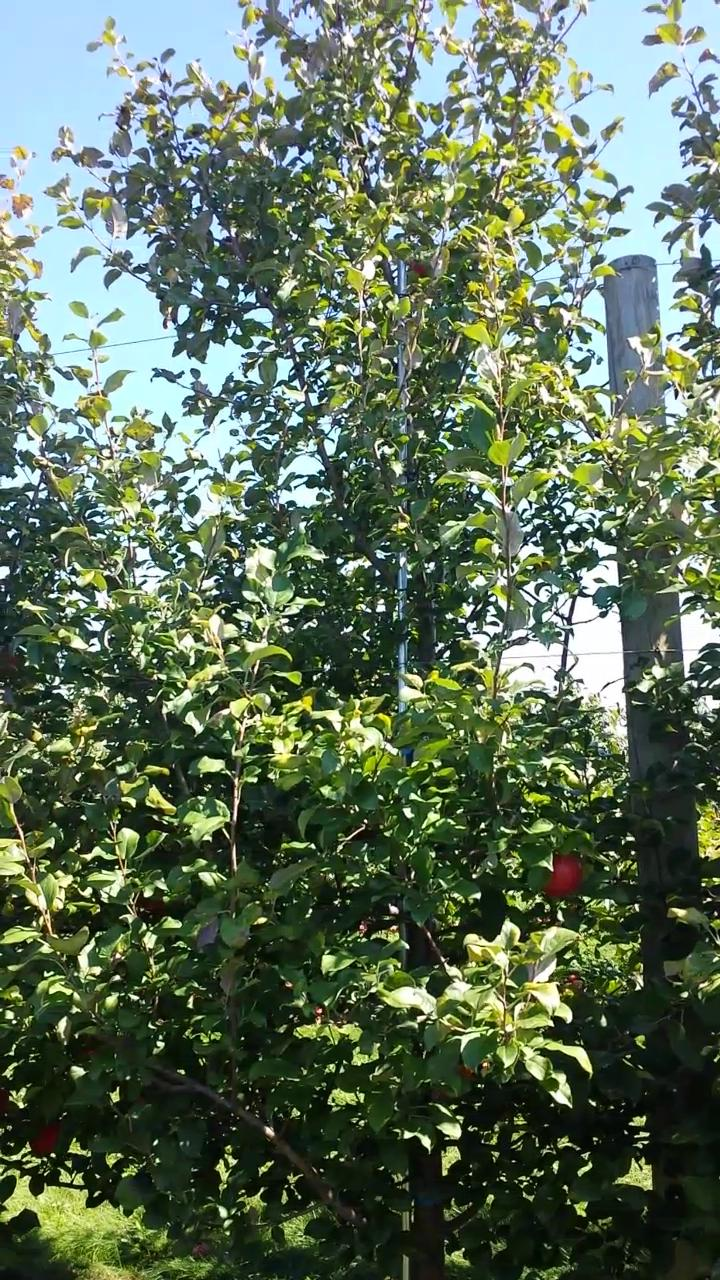Apple: (541, 851, 584, 896), (27, 1121, 59, 1156), (408, 259, 425, 276), (455, 1063, 473, 1079), (0, 1088, 9, 1113)
